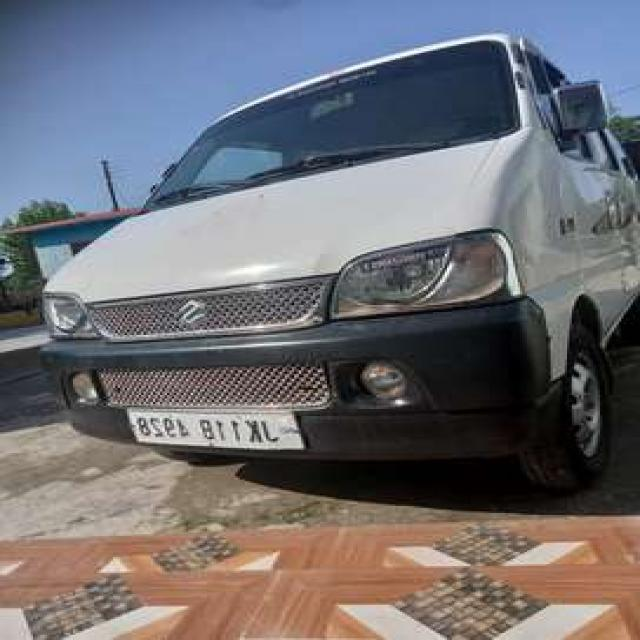license_plate: (118, 404, 311, 460)
